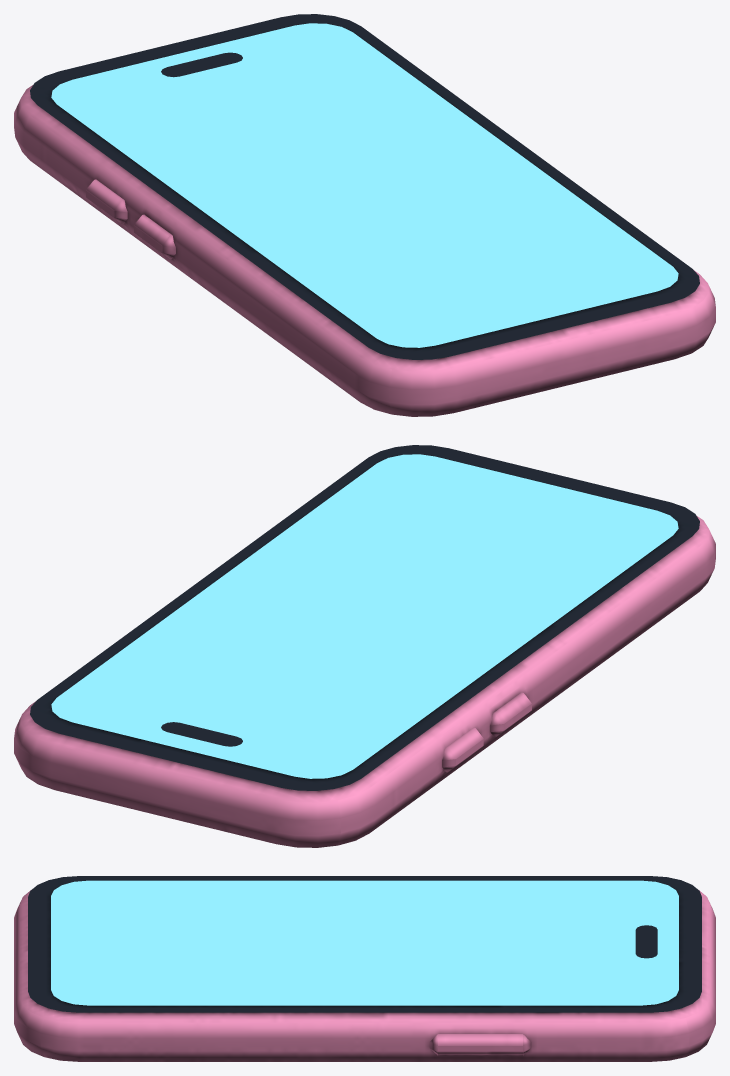
File: smartphone.glb
The picture shows the model from 3 angles, top to bottom: view 1: azimuth 30°, elevation 25°; view 2: azimuth 150°, elevation 25°; view 3: azimuth 270°, elevation 25°; orthographic projection. The views are drawn at different scales.
Visible parts, largest first — view 1: smartphone; view 2: smartphone; view 3: smartphone.
Part boxes in pixels (x1=…): smartphone: x1=14, y1=14, x2=715, y2=416; smartphone: x1=14, y1=445, x2=715, y2=847; smartphone: x1=14, y1=876, x2=715, y2=1061.
Bounding box in the file's own units: 0.08 × 0.0129 × 0.152.
Materials: 3 (2 with a texture image).
